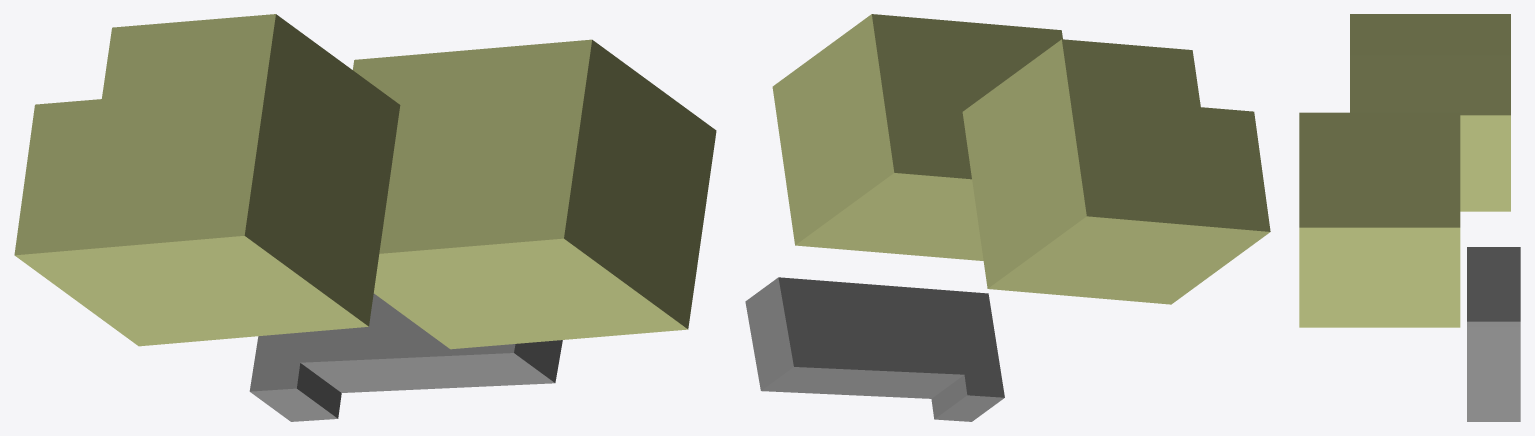
The picture shows the model from 3 angles, left to right: view 1: azimuth 30°, elevation 25°; view 2: azimuth 150°, elevation 25°; view 3: azimuth 270°, elevation 25°; orthographic projection. The views are drawn at different scales.
Parts seen in each view (by area): view 1: 0_1_2_0_3_3_2_0_2_1; view 2: 0_1_2_0_3_3_2_0_2_1; view 3: 0_1_2_0_3_3_2_0_2_1.
Boxes of the visible parts, x1,y1,x2,y2 form: 0_1_2_0_3_3_2_0_2_1: [14, 14, 716, 421]; 0_1_2_0_3_3_2_0_2_1: [745, 14, 1270, 421]; 0_1_2_0_3_3_2_0_2_1: [1299, 14, 1520, 421].
Bounding box in the file's own units: 22.51 × 17.2 × 12.36.
